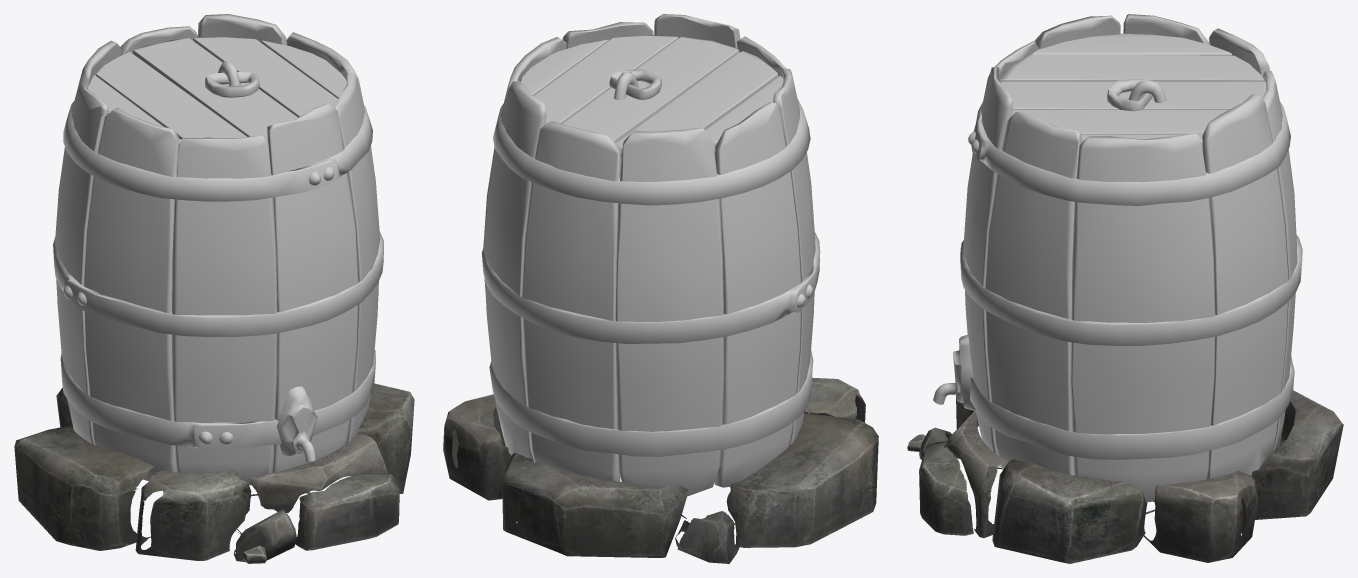
3 renders of one model, left to right at view 1: azimuth 30°, elevation 25°; view 2: azimuth 150°, elevation 25°; view 3: azimuth 270°, elevation 25°, orthographic. The views are drawn at different scales.
Parts seen in each view (by area): view 1: SM_WaterBarrel_02_LOD0; view 2: SM_WaterBarrel_02_LOD0; view 3: SM_WaterBarrel_02_LOD0.
Boxes of the visible parts, x1,y1,x2,y2 form: SM_WaterBarrel_02_LOD0: (14, 14, 414, 563); SM_WaterBarrel_02_LOD0: (443, 14, 878, 563); SM_WaterBarrel_02_LOD0: (907, 14, 1343, 563).
Bounding box in the file's own units: 1.5 × 1.7 × 1.55.
